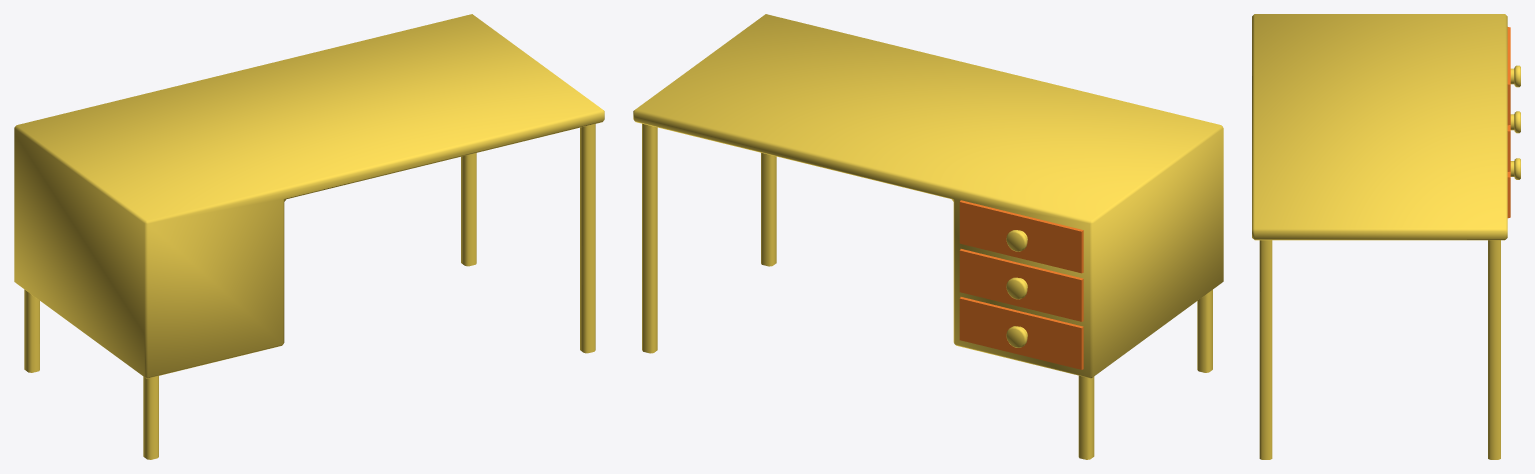
The model's file is Desk_01.glb.
3 renders of one model, left to right at view 1: azimuth 30°, elevation 25°; view 2: azimuth 150°, elevation 25°; view 3: azimuth 270°, elevation 25°, orthographic. The views are drawn at different scales.
Visible parts, largest first — view 1: Desk; view 2: Desk; view 3: Desk.
Part boxes in pixels (x1,y1,x2,y2): Desk: [14, 14, 604, 459]; Desk: [633, 14, 1223, 459]; Desk: [1252, 14, 1520, 459].
Size of the model in its own units: 2 by 1.01 by 1.05.
1 material, 1 textured.
